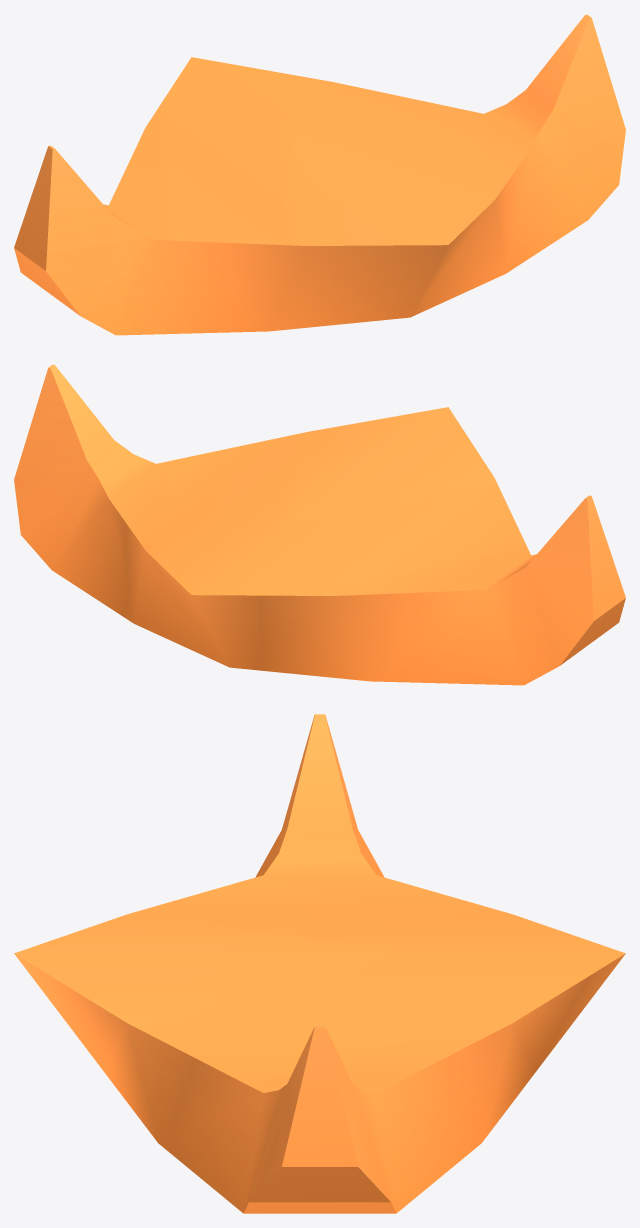
File: bronze_guard_070.glb
3 renders of one model, top to bottom at view 1: azimuth 30°, elevation 25°; view 2: azimuth 150°, elevation 25°; view 3: azimuth 270°, elevation 25°, orthographic. The views are drawn at different scales.
Parts seen in each view (by area): view 1: bronze_guard_070; view 2: bronze_guard_070; view 3: bronze_guard_070.
Boxes of the visible parts, <box> form: bronze_guard_070: <box>14,14,625,335</box>; bronze_guard_070: <box>14,364,625,685</box>; bronze_guard_070: <box>14,714,625,1213</box>.
Size of the model in its own units: 4.04 by 1.15 by 3.1.
Materials: 1 (1 with a texture image).
